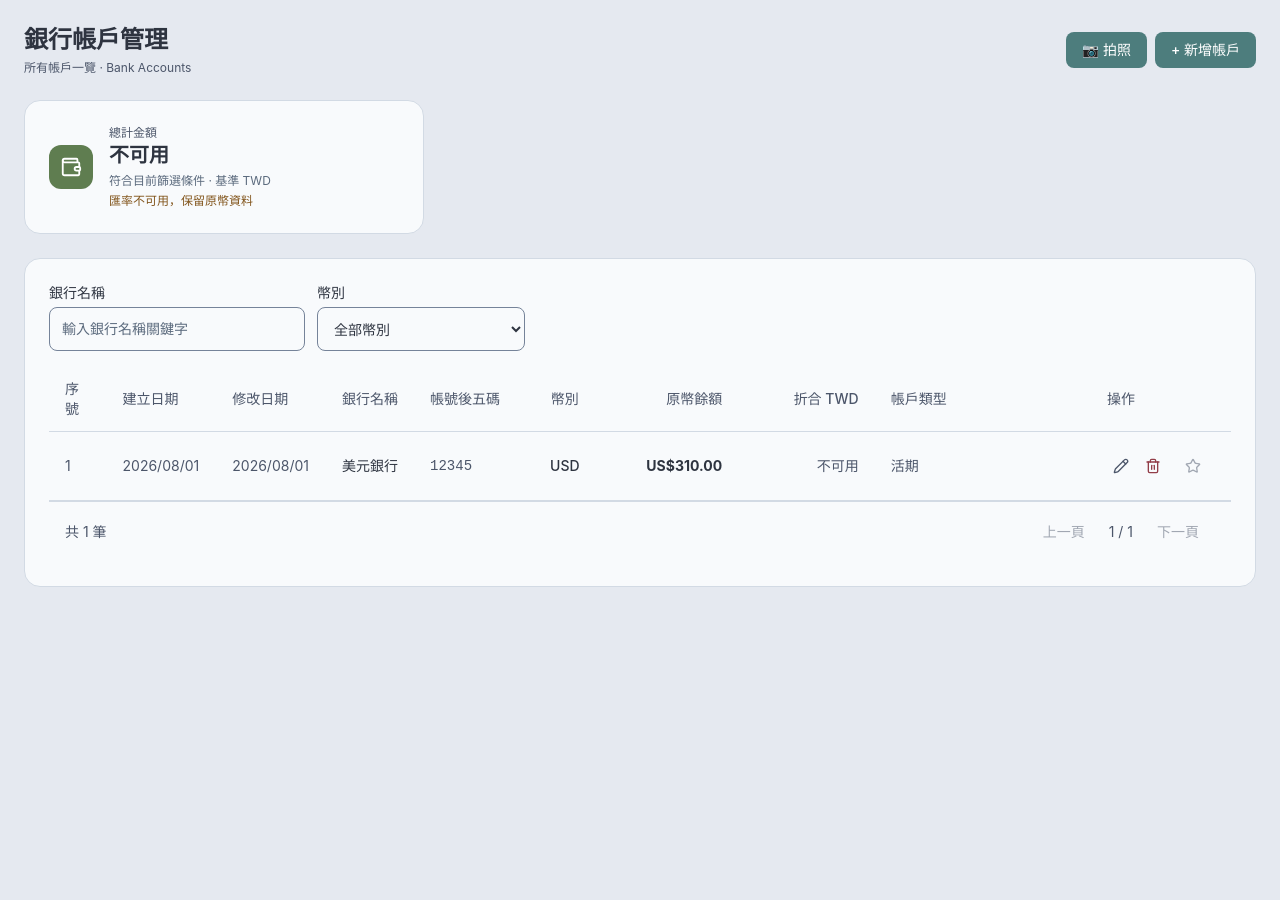
Test: 銀行帳戶多幣別頁面 › refills currency on edit and warns before changing it
Click the 3rd button: {"x": 1121, "y": 466} [1107,452,1135,480]
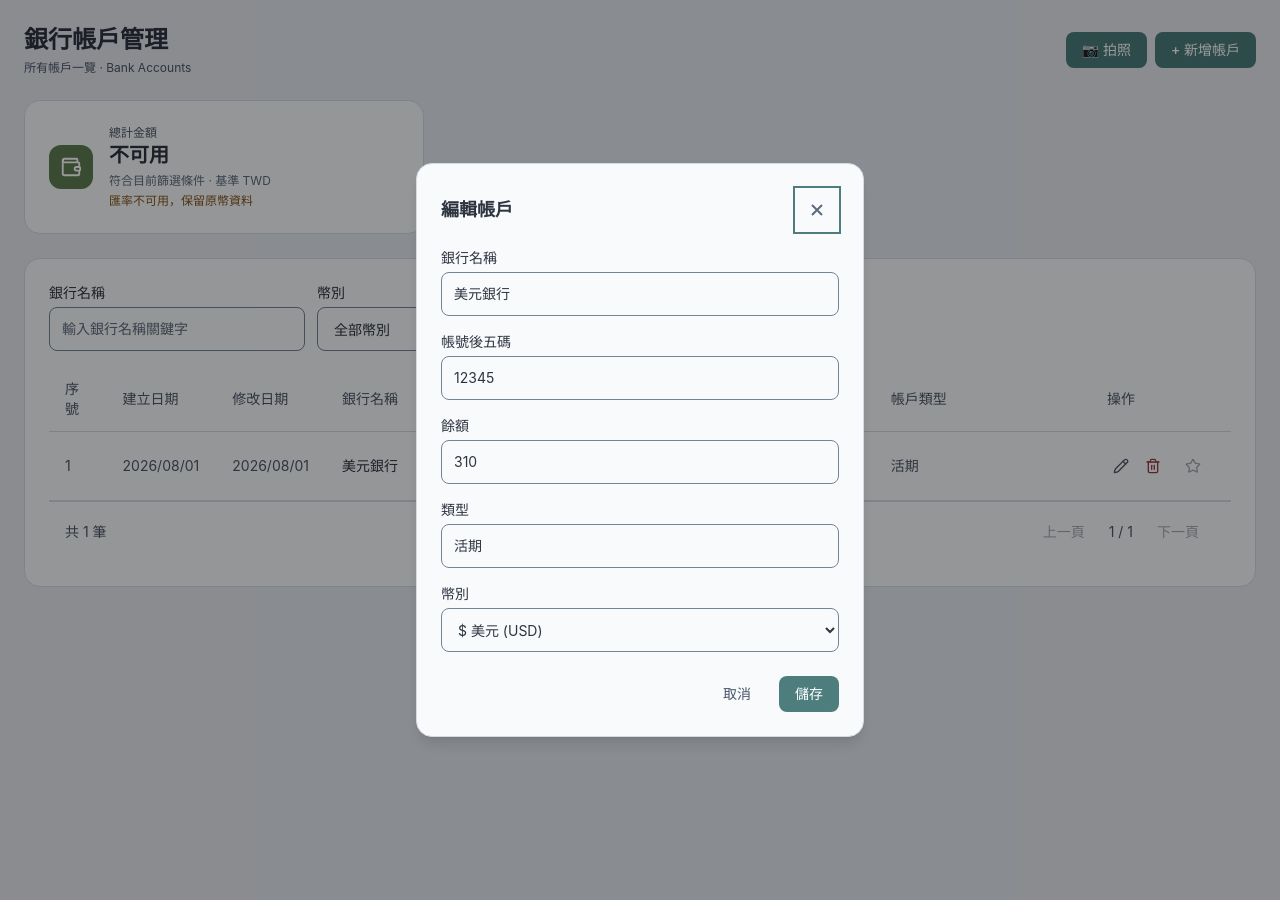
Now the dropdown with id "bank-account-currency" shows "$ 美元 (USD)"
Select "¥ 日圓 (JPY)" in the dropdown with id "bank-account-currency": {"x": 640, "y": 630} [441,608,839,652]
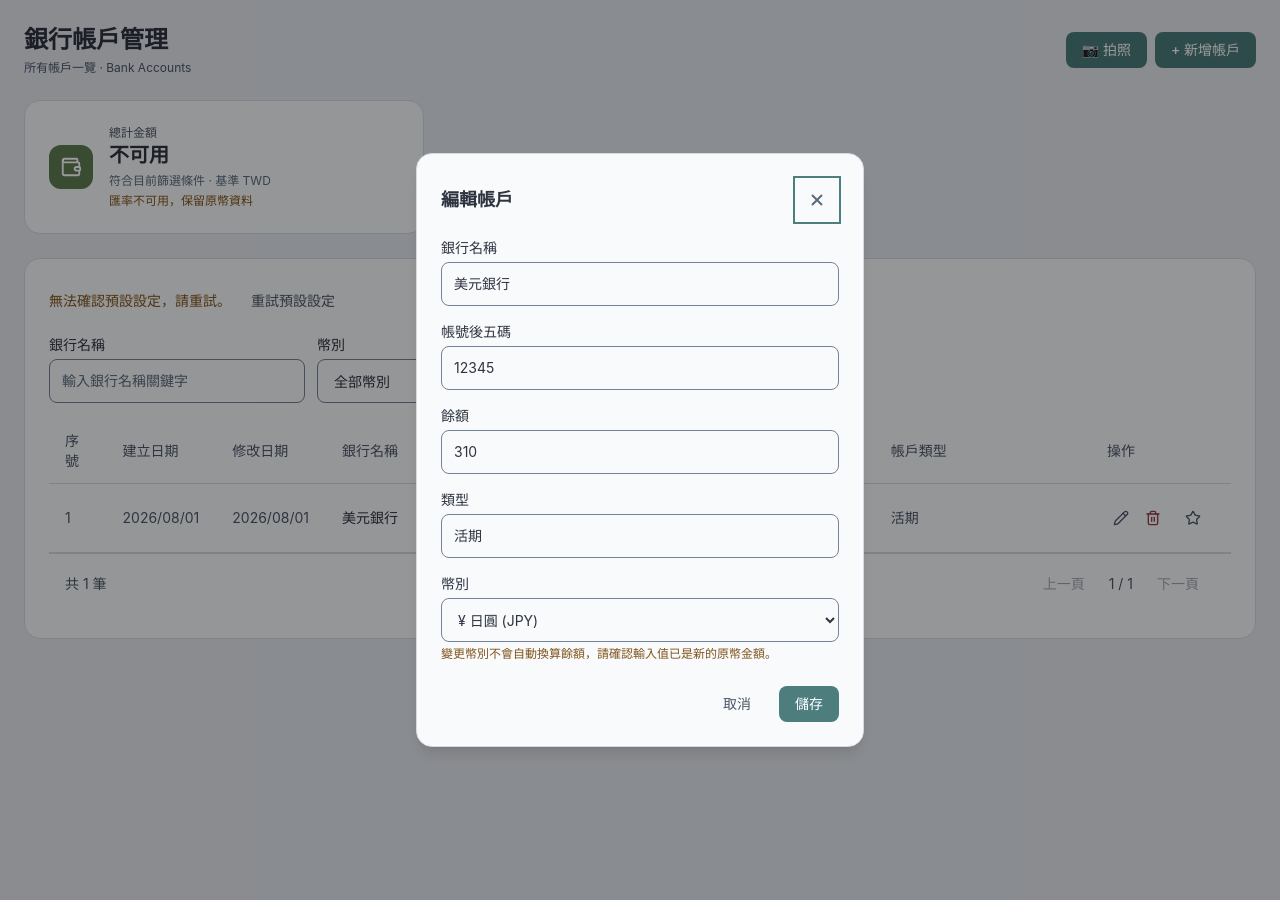
Now the text "變更幣別不會自動換算餘額" is shown, box [441,646,777,661]
